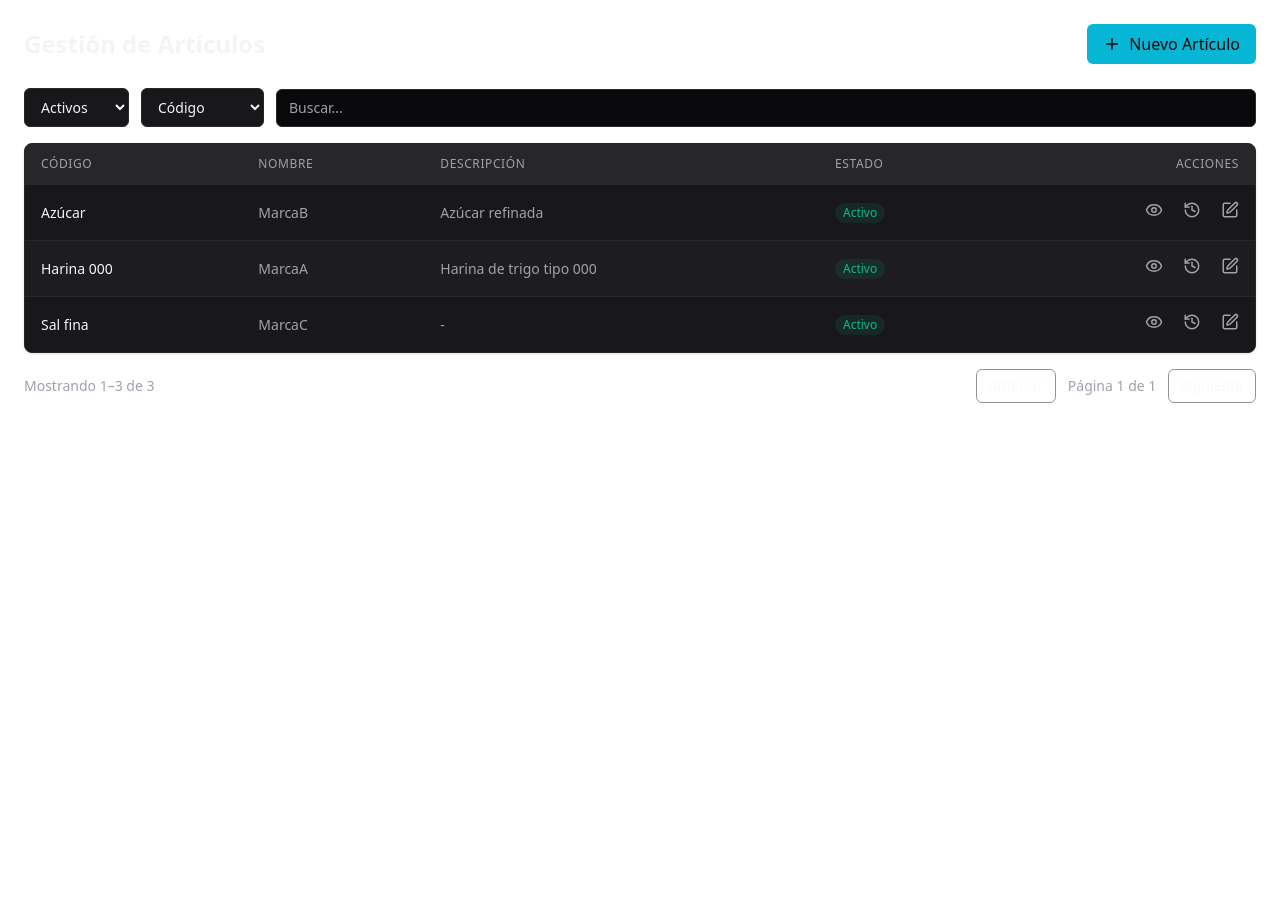
Test: ArticulosPage history › shows the full detail without editing and can jump to the history
Check: the text "Harina 000" is shown, box [25,240,242,296]
Click the button named "Ver detalle" in the row of "Harina 000" at (1154, 266), box [1145,257,1163,275]
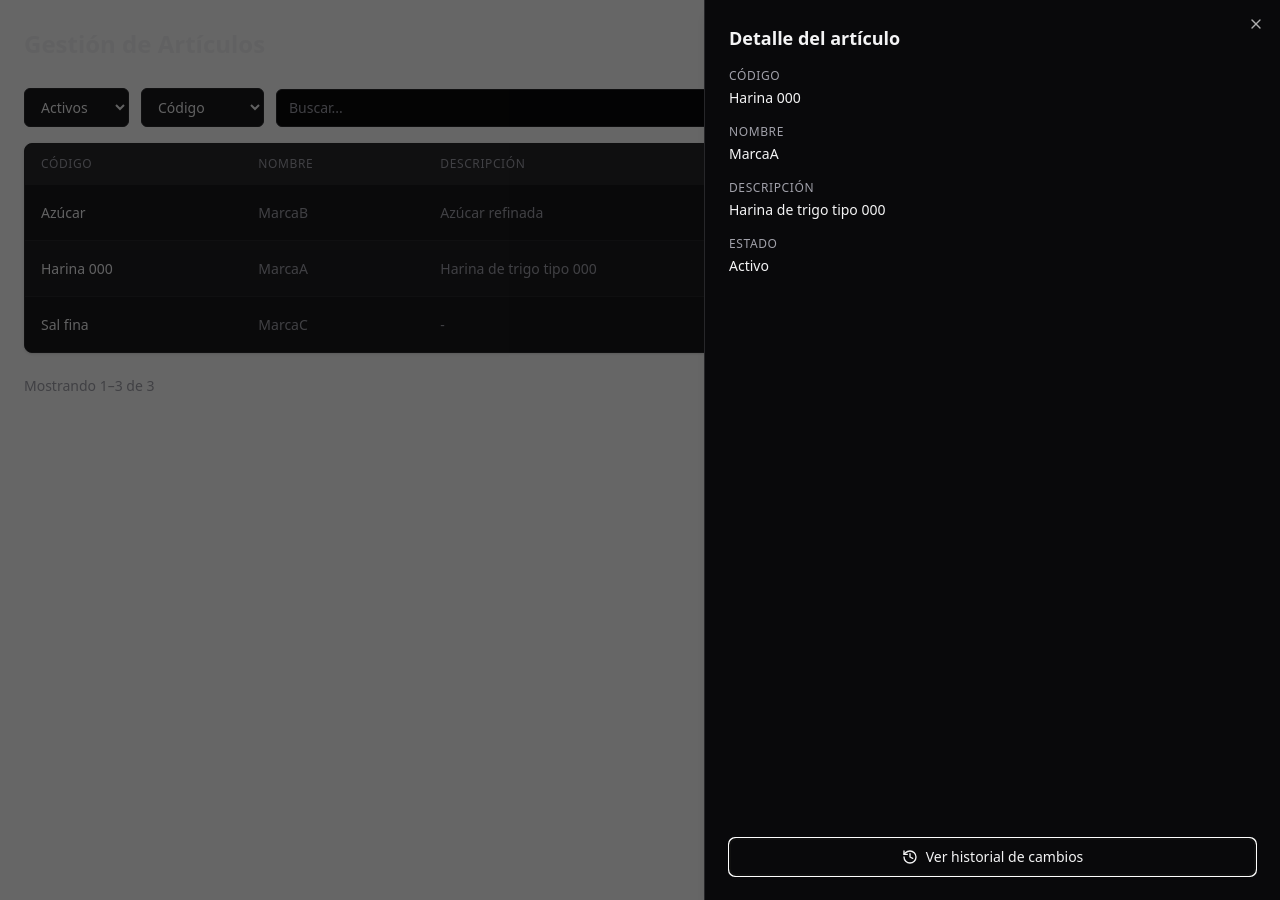
Check: the heading "Detalle del artículo" is shown, box [729,26,900,50]
Check: the text "Harina 000" is shown once, box [729,88,801,107]
Click the button "Ver historial de cambios" at (992, 857), box [729,838,1256,876]
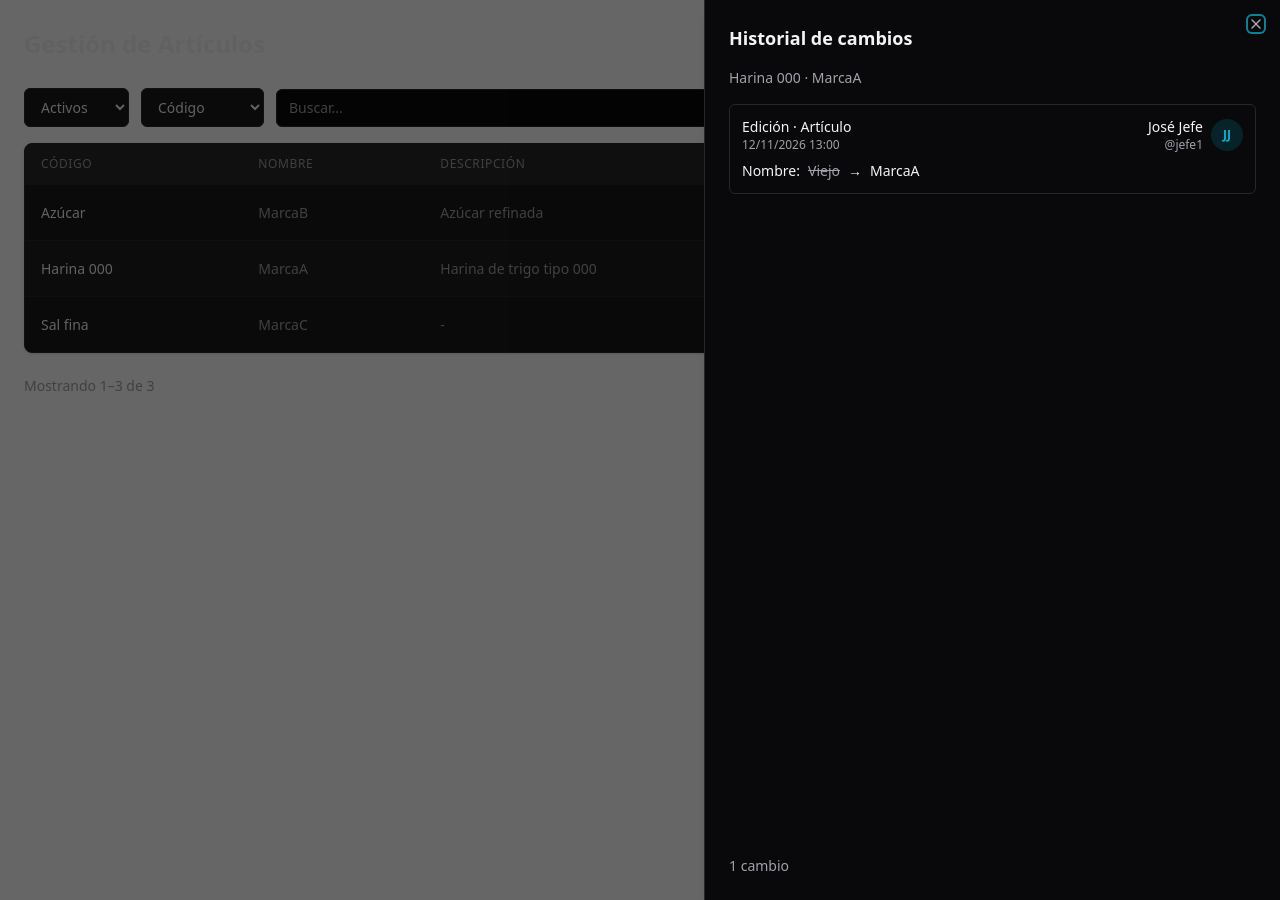
Check: the text "José Jefe" is shown, box [1148,117,1203,137]
